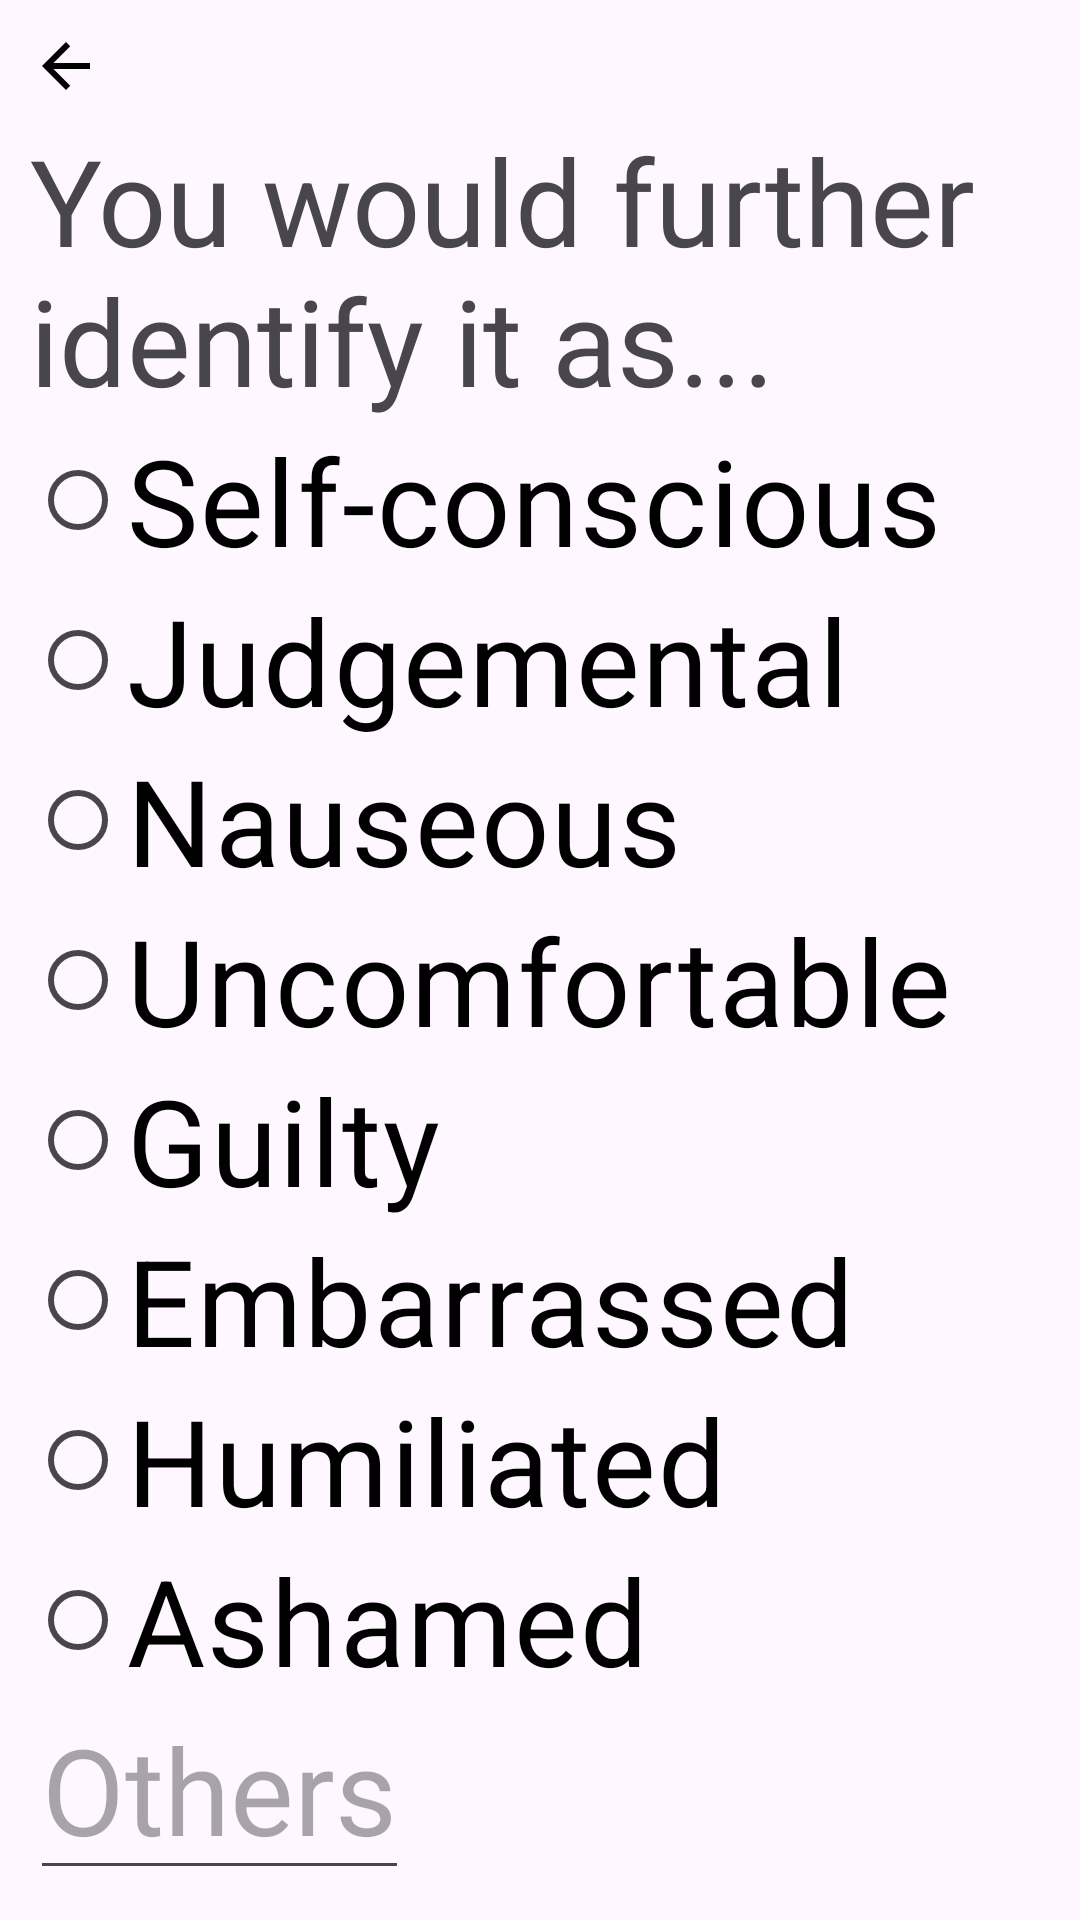

Locate icon controls on the screen. Image size 1080×1920, boxes as (x1, y1, x2, y2).
arrow back: (42, 42, 90, 90)
